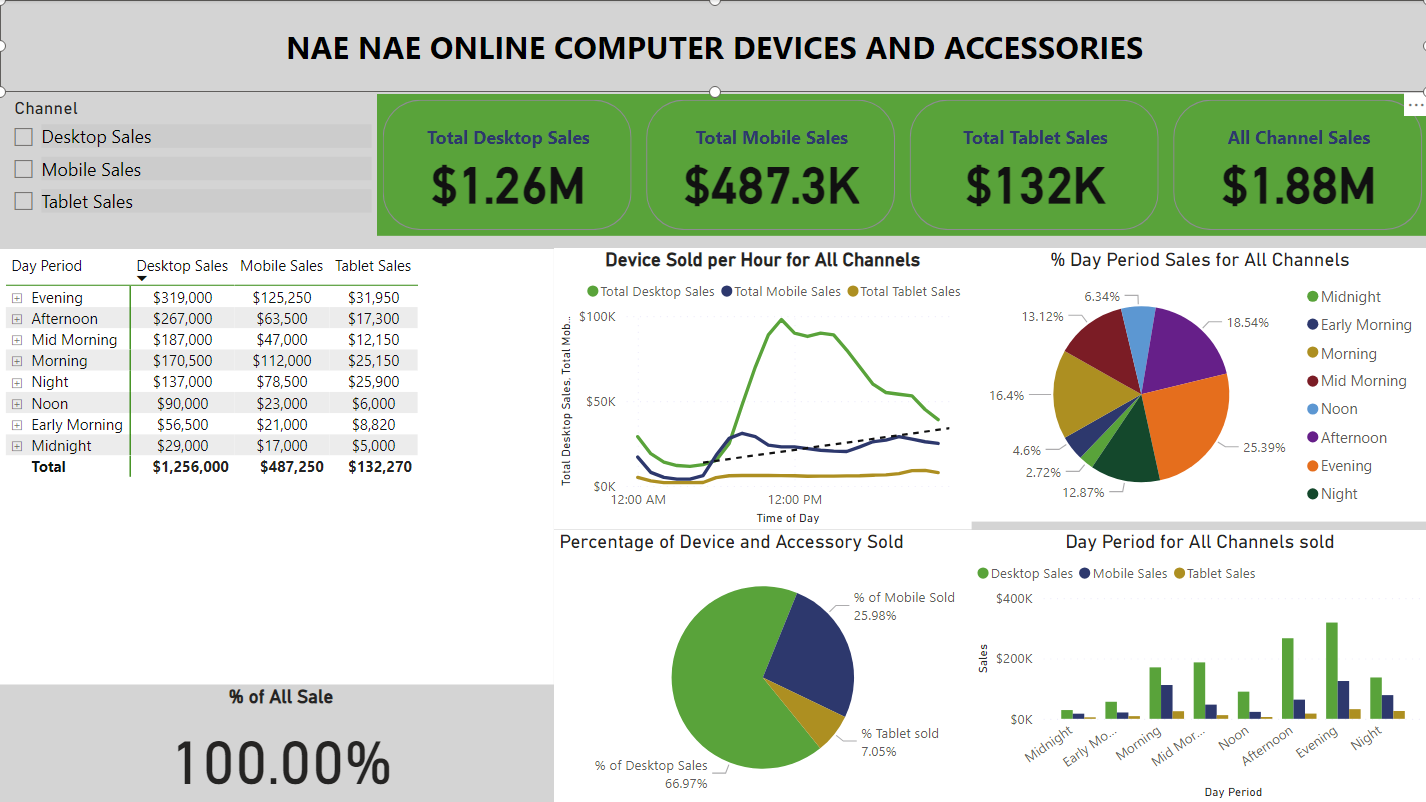

Layout of this report page (visuals, bound fields, positions):
{"tool":"powerbi","page":{"name":"Page 1","canvas":[1280,720],"ordinal":0},"visuals":[{"type":"cardVisual","fields":{"Data":["Computer Measures.Total Desktop Sales","Computer Measures.Total Mobile Sales","Computer Measures.Total Tablet Sales","Computer Measures.ALL Sales"]},"box":[337.6,84.2,942.1,127.2],"z":0},{"type":"lineChart","fields":{"Category":["Time of Day (Sheet1).Time of Day"],"Y":["Time of Day (Sheet1).Total Desktop Sales","Time of Day (Sheet1).Total Mobile Sales","Computer Measures.Total Tablet Sales"]},"box":[496,221.9,374,252.1],"z":1000},{"type":"pivotTable","fields":{"Rows":["Time of Day (Sheet1).Day Period","Time of Day (Sheet1).Time of Day"],"Values":["Computer Measures.Total Desktop Sales","Computer Measures.Total Mobile Sales","Computer Measures.Total Tablet Sales"]},"box":[0,222.7,495.9,390],"z":2000},{"type":"clusteredColumnChart","fields":{"Category":["Time of Day (Sheet1).Day Period"],"Y":["Time of Day (Sheet1).Total Desktop Sales","Time of Day (Sheet1).Total Mobile Sales","Time of Day (Sheet1).Total Tablet Sales"]},"box":[870,475.1,410,245.1],"z":3000},{"type":"slicer","fields":{"Values":["Channels.Channel"]},"box":[0,82.3,337.6,128.8],"z":4000},{"type":"pieChart","title":"Percentage  of Device and Accessory Sold","fields":{"Y":["Computer Measures.% of Desktop Sales","Computer Measures.% of Mobile Sold","Computer Measures.% Tablet sold"]},"box":[496,475.1,374,245.1],"z":5000},{"type":"shape","box":[0,0,1280,82.5],"z":6000},{"type":"pieChart","fields":{"Category":["Time of Day (Sheet1).Day Period"],"Y":["Computer Measures.ALL Sales"]},"box":[870,221.9,410,245.1],"z":7000},{"type":"card","fields":{"Values":["Computer Measures.% of All Sales"]},"box":[7.2,613.2,489.1,106.2],"z":8000}]}

Visuals, with their boxes in screenshot pixels (x1, y1, x2, y2), scaled from the page's 1280x720 canvas onto the 1426x802 screenshot:
cardVisual - Computer Measures.Total Desktop Sales x Computer Measures.Total Mobile Sales: 376,94,1425,235
lineChart - Time of Day (Sheet1).Time of Day x Time of Day (Sheet1).Total Desktop Sales: 553,247,969,528
pivotTable - Time of Day (Sheet1).Day Period x Time of Day (Sheet1).Time of Day: 0,248,552,682
clusteredColumnChart - Time of Day (Sheet1).Day Period x Time of Day (Sheet1).Total Desktop Sales: 969,529,1425,801
slicer - Channels.Channel: 0,92,376,235
"Percentage  of Device and Accessory Sold" pieChart: 553,529,969,801
shape: 0,0,1425,92
pieChart - Time of Day (Sheet1).Day Period x Computer Measures.ALL Sales: 969,247,1425,520
card - Computer Measures.% of All Sales: 8,683,553,801
